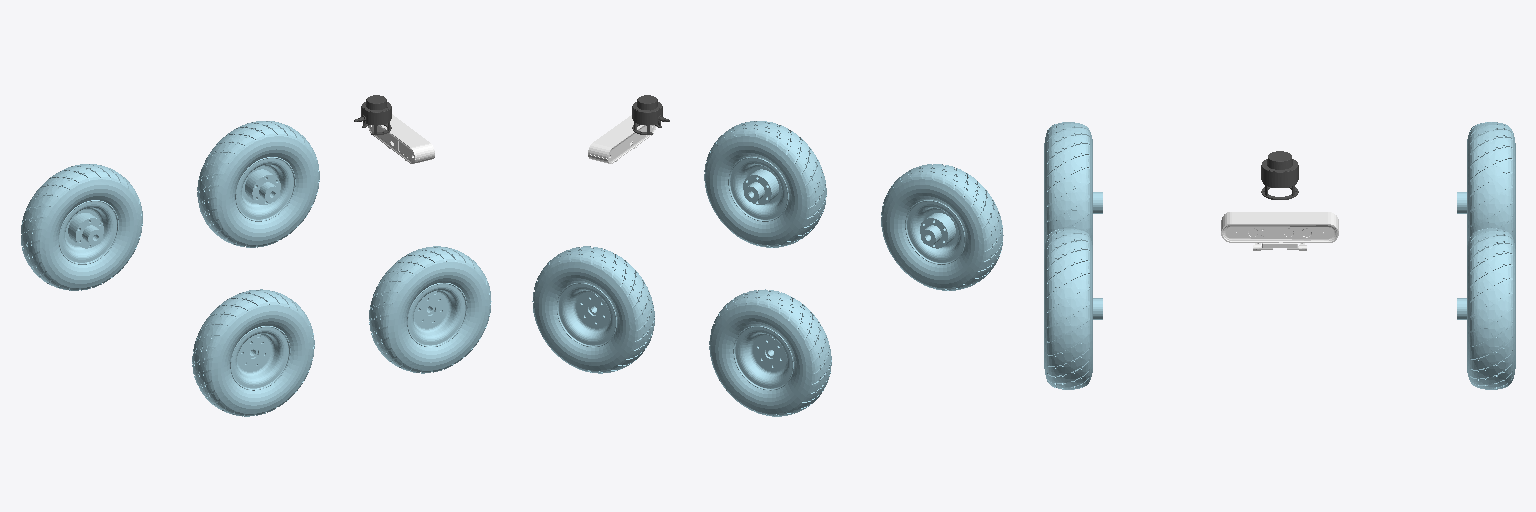
URDF robot description (flagship_4wd_dl_robot):
<?xml version="1.0" encoding="utf-8"?>
<!-- This URDF was automatically created by SolidWorks to URDF Exporter! Originally created by [author] ([email redacted]) 
     Commit Version: 1.6.0-4-g7f85cfe  Build Version: 1.6.7995.38578
     For more information, please see http://wiki.ros.org/sw_urdf_exporter -->
<robot
  name="flagship_4wd_dl_robot">
  <link
    name="base_link">
    <inertial>
      <origin
        xyz="0.00564223820825996 -0.00278208831253937 0.0722012306886411"
        rpy="0 0 0" />
      <mass
        value="6.62656507577401" />
      <inertia
        ixx="0.0570575550346349"
        ixy="3.97387446938142E-05"
        ixz="-1.84274071108075E-05"
        iyy="0.0513798711816647"
        iyz="-2.86896746869318E-06"
        izz="0.100906419212523" />
    </inertial>
    <visual>
      <origin
        xyz="0 0 0"
        rpy="0 0 0" />
      <geometry>
        <mesh
          filename="package://wheeltec_robot_urdf/meshes/flagship_4wd_dl_robot_meshes/base_link.STL" />
      </geometry>
      <material
        name="">
        <color
          rgba="0.741176470588235 0.901960784313726 0.956862745098039 1" />
      </material>
    </visual>
    <collision>
      <origin
        xyz="0 0 0"
        rpy="0 0 0" />
      <geometry>
        <mesh
          filename="package://wheeltec_robot_urdf/meshes/flagship_4wd_dl_robot_meshes/base_link.STL" />
      </geometry>
    </collision>
  </link>
  <link
    name="lf_wheel_link">
    <inertial>
      <origin
        xyz="2.14288120872763E-07 -0.000682432707154762 2.5770679809578E-07"
        rpy="0 0 0" />
      <mass
        value="2.0266085391655" />
      <inertia
        ixx="0.0075987724029356"
        ixy="1.87526088276733E-08"
        ixz="-5.4026258972035E-08"
        iyy="0.014069873540051"
        iyz="-5.83298164689085E-08"
        izz="0.00759894331886065" />
    </inertial>
    <visual>
      <origin
        xyz="0 0 0"
        rpy="0 0 0" />
      <geometry>
        <mesh
          filename="package://wheeltec_robot_urdf/meshes/flagship_4wd_dl_robot_meshes/lf_wheel_link.STL" />
      </geometry>
      <material
        name="">
        <color
          rgba="0.741176470588235 0.901960784313726 0.956862745098039 1" />
      </material>
    </visual>
    <collision>
      <origin
        xyz="0 0 0"
        rpy="0 0 0" />
      <geometry>
        <mesh
          filename="package://wheeltec_robot_urdf/meshes/flagship_4wd_dl_robot_meshes/lf_wheel_link.STL" />
      </geometry>
    </collision>
  </link>
  <joint
    name="lf_wheel_joint"
    type="continuous">
    <origin
      xyz="0.174356547464883 0.296129641802973 0.036496999999999"
      rpy="0 0 0" />
    <parent
      link="base_link" />
    <child
      link="lf_wheel_link" />
    <axis
      xyz="0 1 0" />
  </joint>
  <link
    name="lb_wheel_link">
    <inertial>
      <origin
        xyz="3.6008977227775E-07 -0.000682432698586186 2.5767372290042E-07"
        rpy="0 0 0" />
      <mass
        value="2.02660853948791" />
      <inertia
        ixx="0.0075987723994357"
        ixy="1.8751488073235E-08"
        ixz="-5.40239590572317E-08"
        iyy="0.0140698735450314"
        iyz="-5.83251779268505E-08"
        izz="0.00759894332491471" />
    </inertial>
    <visual>
      <origin
        xyz="0 0 0"
        rpy="0 0 0" />
      <geometry>
        <mesh
          filename="package://wheeltec_robot_urdf/meshes/flagship_4wd_dl_robot_meshes/lb_wheel_link.STL" />
      </geometry>
      <material
        name="">
        <color
          rgba="0.741176470588235 0.901960784313726 0.956862745098039 1" />
      </material>
    </visual>
    <collision>
      <origin
        xyz="0 0 0"
        rpy="0 0 0" />
      <geometry>
        <mesh
          filename="package://wheeltec_robot_urdf/meshes/flagship_4wd_dl_robot_meshes/lb_wheel_link.STL" />
      </geometry>
    </collision>
  </link>
  <joint
    name="lb_wheel_joint"
    type="continuous">
    <origin
      xyz="-0.177660452535117 0.296129641802972 0.036496999999999"
      rpy="0 0 0" />
    <parent
      link="base_link" />
    <child
      link="lb_wheel_link" />
    <axis
      xyz="0 1 0" />
  </joint>
  <link
    name="rb_wheel_link">
    <inertial>
      <origin
        xyz="-2.14327158520877E-07 0.00068243270710755 2.57656477931079E-07"
        rpy="0 0 0" />
      <mass
        value="2.02660853916922" />
      <inertia
        ixx="0.00759877239764021"
        ixy="1.87531032806544E-08"
        ixz="5.40208740809724E-08"
        iyy="0.0140698735400908"
        iyz="5.83248499225228E-08"
        izz="0.00759894332418463" />
    </inertial>
    <visual>
      <origin
        xyz="0 0 0"
        rpy="0 0 0" />
      <geometry>
        <mesh
          filename="package://wheeltec_robot_urdf/meshes/flagship_4wd_dl_robot_meshes/rb_wheel_link.STL" />
      </geometry>
      <material
        name="">
        <color
          rgba="0.741176470588235 0.901960784313726 0.956862745098039 1" />
      </material>
    </visual>
    <collision>
      <origin
        xyz="0 0 0"
        rpy="0 0 0" />
      <geometry>
        <mesh
          filename="package://wheeltec_robot_urdf/meshes/flagship_4wd_dl_robot_meshes/rb_wheel_link.STL" />
      </geometry>
    </collision>
  </link>
  <joint
    name="rb_wheel_joint"
    type="continuous">
    <origin
      xyz="-0.177661452535115 -0.296094358197028 0.036497000000001"
      rpy="0 0 0" />
    <parent
      link="base_link" />
    <child
      link="rb_wheel_link" />
    <axis
      xyz="0 -1 0" />
  </joint>
  <link
    name="rf_wheel_link">
    <inertial>
      <origin
        xyz="-3.60073703561947E-07 0.000682432681512246 2.57671473047338E-07"
        rpy="0 0 0" />
      <mass
        value="2.02660854012205" />
      <inertia
        ixx="0.0075987724076264"
        ixy="1.87525203926182E-08"
        ixz="5.40211324964866E-08"
        iyy="0.0140698735548758"
        iyz="5.83259237618519E-08"
        izz="0.00759894332175008" />
    </inertial>
    <visual>
      <origin
        xyz="0 0 0"
        rpy="0 0 0" />
      <geometry>
        <mesh
          filename="package://wheeltec_robot_urdf/meshes/flagship_4wd_dl_robot_meshes/rf_wheel_link.STL" />
      </geometry>
      <material
        name="">
        <color
          rgba="0.741176470588235 0.901960784313726 0.956862745098039 1" />
      </material>
    </visual>
    <collision>
      <origin
        xyz="0 0 0"
        rpy="0 0 0" />
      <geometry>
        <mesh
          filename="package://wheeltec_robot_urdf/meshes/flagship_4wd_dl_robot_meshes/rf_wheel_link.STL" />
      </geometry>
    </collision>
  </link>
  <joint
    name="rf_wheel_joint"
    type="continuous">
    <origin
      xyz="0.174355547464885 -0.296094358197027 0.036497000000001"
      rpy="0 0 0" />
    <parent
      link="base_link" />
    <child
      link="rf_wheel_link" />
    <axis
      xyz="0 -1 0" />
  </joint>
  <link
    name="camera_link">
    <inertial>
      <origin
        xyz="-1.49472127085326E-07 1.57377399584435E-07 1.07509927307903E-07"
        rpy="0 0 0" />
      <mass
        value="0.0559842529215324" />
      <inertia
        ixx="0.000130802200749112"
        ixy="-9.9661745405607E-07"
        ixz="1.62299342694045E-06"
        iyy="1.91236262732771E-05"
        iyz="-4.42334065562623E-08"
        izz="0.000131387473464128" />
    </inertial>
    <visual>
      <origin
        xyz="0 0 0"
        rpy="0 0 0" />
      <geometry>
        <mesh
          filename="package://wheeltec_robot_urdf/meshes/flagship_4wd_dl_robot_meshes/camera_link.STL" />
      </geometry>
      <material
        name="">
        <color
          rgba="1 1 1 1" />
      </material>
    </visual>
    <collision>
      <origin
        xyz="0 0 0"
        rpy="0 0 0" />
      <geometry>
        <mesh
          filename="package://wheeltec_robot_urdf/meshes/flagship_4wd_dl_robot_meshes/camera_link.STL" />
      </geometry>
    </collision>
  </link>
  <joint
    name="camera_joint"
    type="fixed">
    <origin
      xyz="0.290141547464884 0.000240641802974284 0.212204"
      rpy="0 0 0" />
    <parent
      link="base_link" />
    <child
      link="camera_link" />
    <axis
      xyz="0 0 0" />
  </joint>
  <link
    name="laser_link">
    <inertial>
      <origin
        xyz="-0.00207956288634146 -9.87028646426413E-07 -0.0264468164421749"
        rpy="0 0 0" />
      <mass
        value="0.0042636860602628" />
      <inertia
        ixx="1.45373992961578E-06"
        ixy="2.48436940553958E-14"
        ixz="-8.86181044864521E-08"
        iyy="1.17647720289552E-06"
        iyz="-2.28919823130698E-15"
        izz="2.03836666874872E-06" />
    </inertial>
    <visual>
      <origin
        xyz="0 0 0"
        rpy="0 0 0" />
      <geometry>
        <mesh
          filename="package://wheeltec_robot_urdf/meshes/flagship_4wd_dl_robot_meshes/laser.STL" />
      </geometry>
      <material
        name="">
        <color
          rgba="0.376470588235294 0.376470588235294 0.376470588235294 1" />
      </material>
    </visual>
    <collision>
      <origin
        xyz="0 0 0"
        rpy="0 0 0" />
      <geometry>
        <mesh
          filename="package://wheeltec_robot_urdf/meshes/flagship_4wd_dl_robot_meshes/laser.STL" />
      </geometry>
    </collision>
  </link>
  <joint
    name="laser_joint"
    type="fixed">
    <origin
      xyz="0.238346547464884 1.66418029743376E-05 0.284664"
      rpy="0 0 -3.14159265358979" />
    <parent
      link="base_link" />
    <child
      link="laser_link" />
    <axis
      xyz="0 0 0" />
  </joint>
  <link
    name="controller_link">
    <inertial>
      <origin
        xyz="-0.050690616239392 0.0175965392797436 0.00856001460559394"
        rpy="0 0 0" />
      <mass
        value="0.00107921953110441" />
      <inertia
        ixx="1.16330109775188E-08"
        ixy="-3.94092668869786E-09"
        ixz="3.69212784612798E-10"
        iyy="2.26830020206362E-07"
        iyz="5.23015130069642E-10"
        izz="2.25657042461949E-07" />
    </inertial>
    <visual>
      <origin
        xyz="0 0 0"
        rpy="0 0 0" />
      <geometry>
        <mesh
          filename="package://wheeltec_robot_urdf/meshes/flagship_4wd_dl_robot_meshes/controller_link.STL" />
      </geometry>
      <material
        name="">
        <color
          rgba="0.741176470588235 0.901960784313726 0.956862745098039 1" />
      </material>
    </visual>
    <collision>
      <origin
        xyz="0 0 0"
        rpy="0 0 0" />
      <geometry>
        <mesh
          filename="package://wheeltec_robot_urdf/meshes/flagship_4wd_dl_robot_meshes/controller_link.STL" />
      </geometry>
    </collision>
  </link>
  <joint
    name="controller_joint"
    type="fixed">
    <origin
      xyz="0.102360188151993 0.0619344960524429 0.00150000000000013"
      rpy="0 0 0" />
    <parent
      link="base_link" />
    <child
      link="controller_link" />
    <axis
      xyz="0 0 0" />
  </joint>
</robot>

--- Facts derived from the render (not from the file) ---
3 views of the same robot in one strip: view 1: azimuth 30°, elevation 25°; view 2: azimuth 150°, elevation 25°; view 3: azimuth 270°, elevation 25° (orthographic).
Robot: flagship_4wd_dl_robot — 8 links, 7 joints (4 continuous, 3 fixed); root link base_link; default pose: all joints at 0.
Visible links, largest first — view 1: lf_wheel_link, rb_wheel_link, rf_wheel_link, lb_wheel_link, camera_link, laser_link; view 2: rf_wheel_link, lb_wheel_link, rb_wheel_link, lf_wheel_link, camera_link, laser_link; view 3: rf_wheel_link, lf_wheel_link, lb_wheel_link, rb_wheel_link, camera_link, laser_link.
Boxes of the visible links, <box> form: lf_wheel_link: <box>197,121,319,247</box>; rb_wheel_link: <box>192,289,314,416</box>; rf_wheel_link: <box>369,246,491,373</box>; lb_wheel_link: <box>21,164,142,290</box>; camera_link: <box>368,114,434,163</box>; laser_link: <box>354,95,391,134</box>; rf_wheel_link: <box>704,121,826,247</box>; lb_wheel_link: <box>709,289,831,416</box>; rb_wheel_link: <box>881,164,1003,290</box>; lf_wheel_link: <box>532,246,654,373</box>; camera_link: <box>588,115,656,163</box>; laser_link: <box>632,95,669,134</box>; rf_wheel_link: <box>1044,228,1102,389</box>; lf_wheel_link: <box>1457,228,1515,389</box>; lb_wheel_link: <box>1457,122,1515,248</box>; rb_wheel_link: <box>1044,122,1102,248</box>; camera_link: <box>1221,212,1338,250</box>; laser_link: <box>1261,151,1298,199</box>.
Size in the robot's own frame: 0.6 by 0.6602 by 0.3795 metres.
Meshes: 8 distinct files referenced, 6 mesh visuals loaded (6 binary STL); not drawn: 2 (reference not matched to a file when rendering).